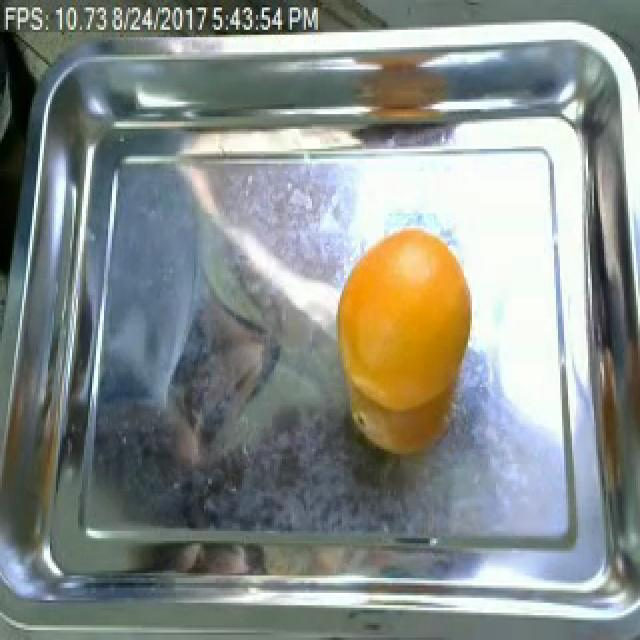Fruit: (328, 216, 480, 456)
